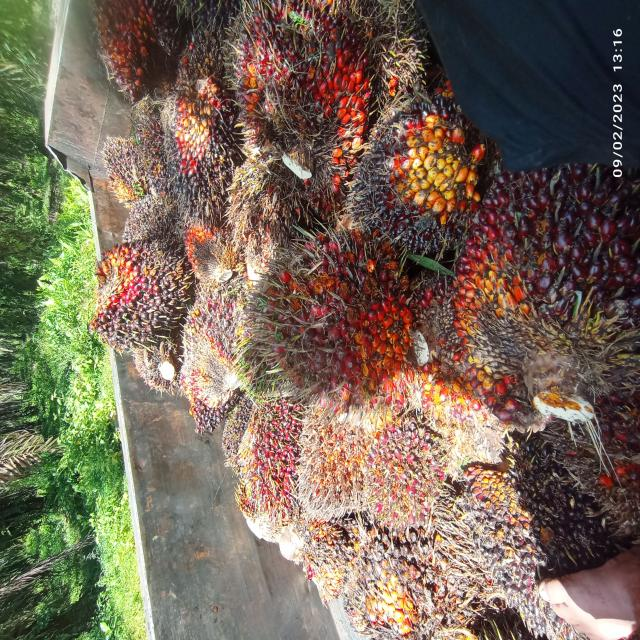fraksi 00: (458, 446, 634, 640), (352, 94, 489, 276), (140, 36, 235, 222), (83, 229, 193, 366), (92, 131, 144, 216), (108, 197, 183, 245), (216, 386, 257, 470)
fraksi 1: (435, 127, 640, 417), (161, 273, 258, 443)
fraksi 3: (248, 223, 435, 430), (221, 2, 383, 194), (365, 407, 448, 539), (233, 389, 304, 540)
fraksi 4: (299, 405, 377, 527)
